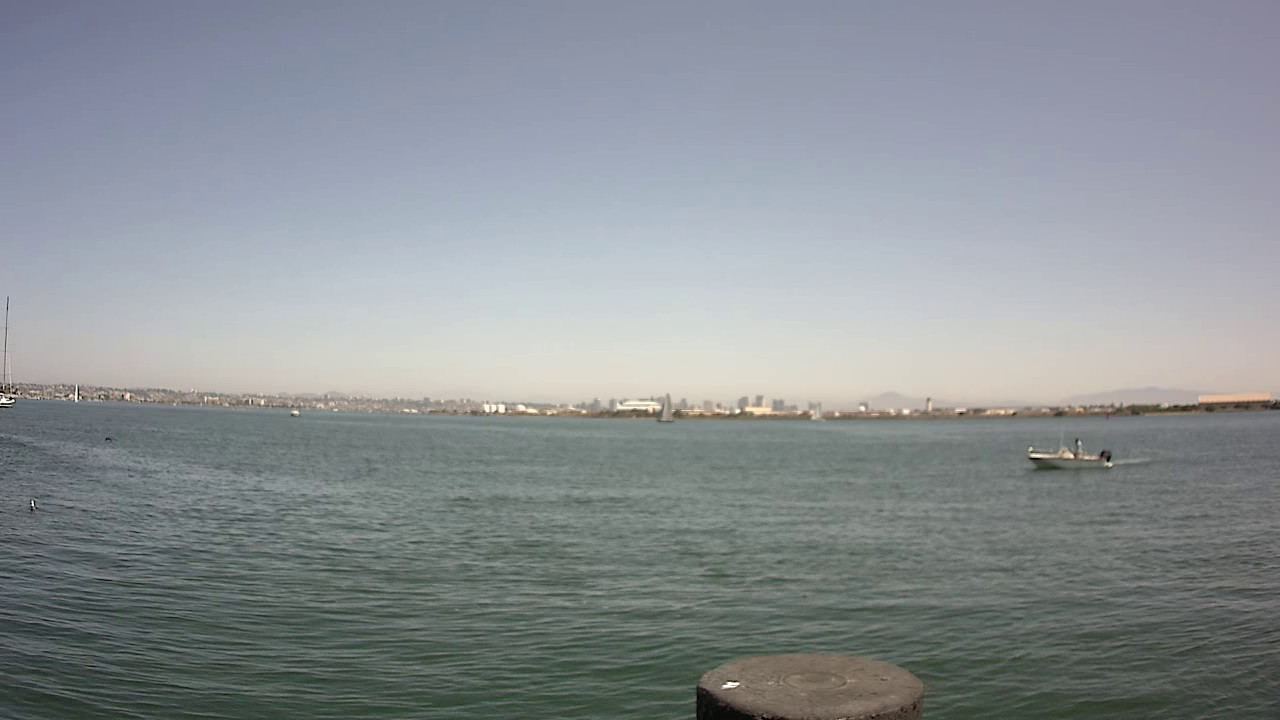target: (1022, 432, 1124, 476)
